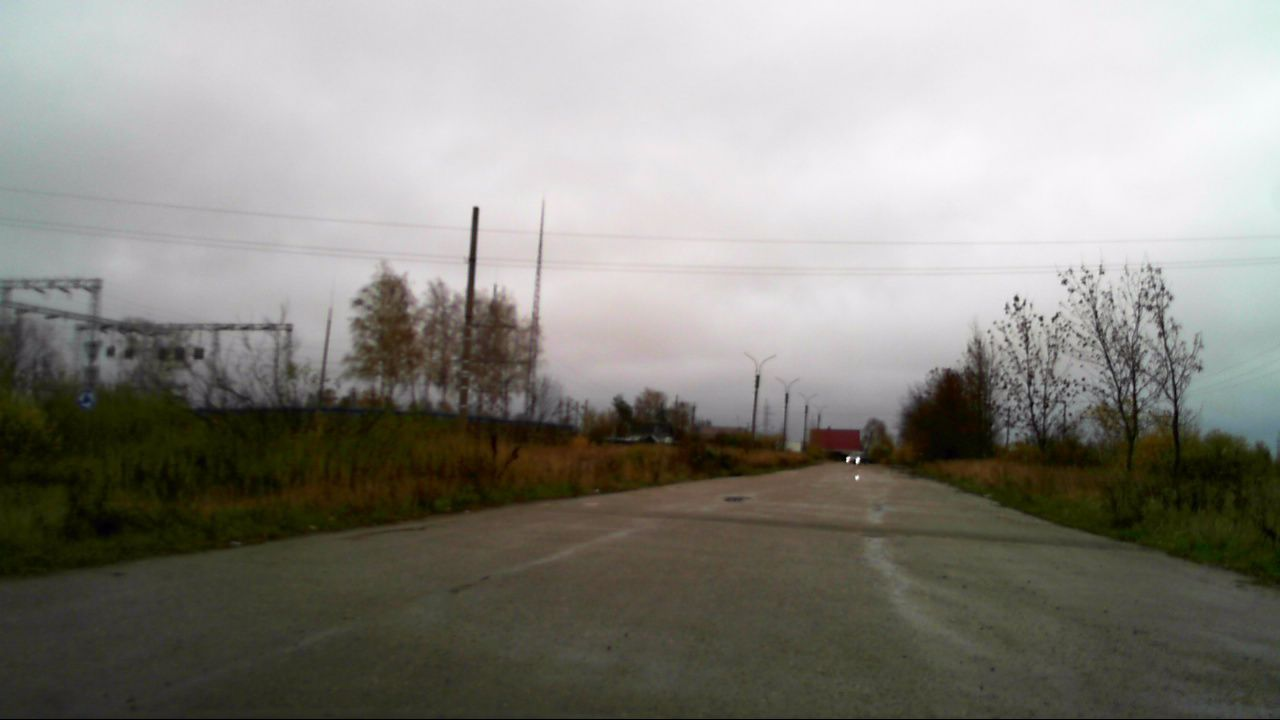Round-About: (75, 386, 99, 409)
